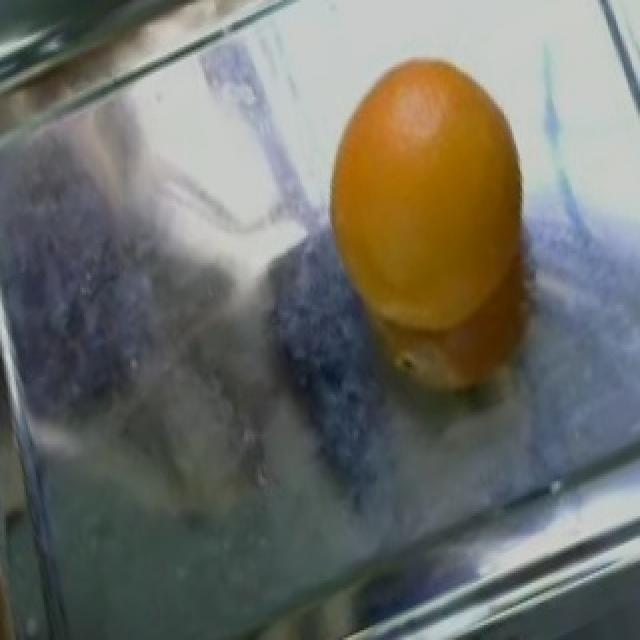Fruit: (304, 18, 560, 414)
